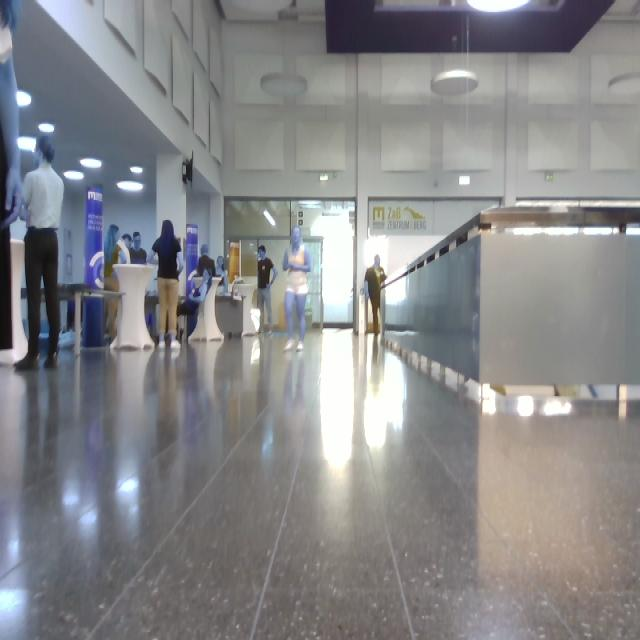desk: (217, 285, 256, 338)
light bulb: (261, 32, 308, 102), (432, 70, 478, 96), (262, 73, 307, 98), (467, 1, 531, 13), (609, 73, 640, 96), (543, 397, 572, 416), (517, 396, 534, 417), (118, 181, 144, 192), (263, 209, 277, 226), (80, 158, 101, 169), (483, 397, 496, 414), (119, 182, 141, 192), (19, 90, 32, 106), (64, 170, 84, 180), (39, 124, 55, 133)
person: (17, 140, 64, 370), (1, 1, 24, 350), (283, 226, 312, 350), (153, 221, 181, 346), (365, 256, 387, 336)
pillar: (86, 189, 105, 290), (85, 300, 104, 346)
staircase: (383, 206, 640, 400)
table: (62, 285, 123, 354), (112, 264, 154, 349), (190, 278, 224, 341)
tiled floor: (1, 332, 640, 640)
